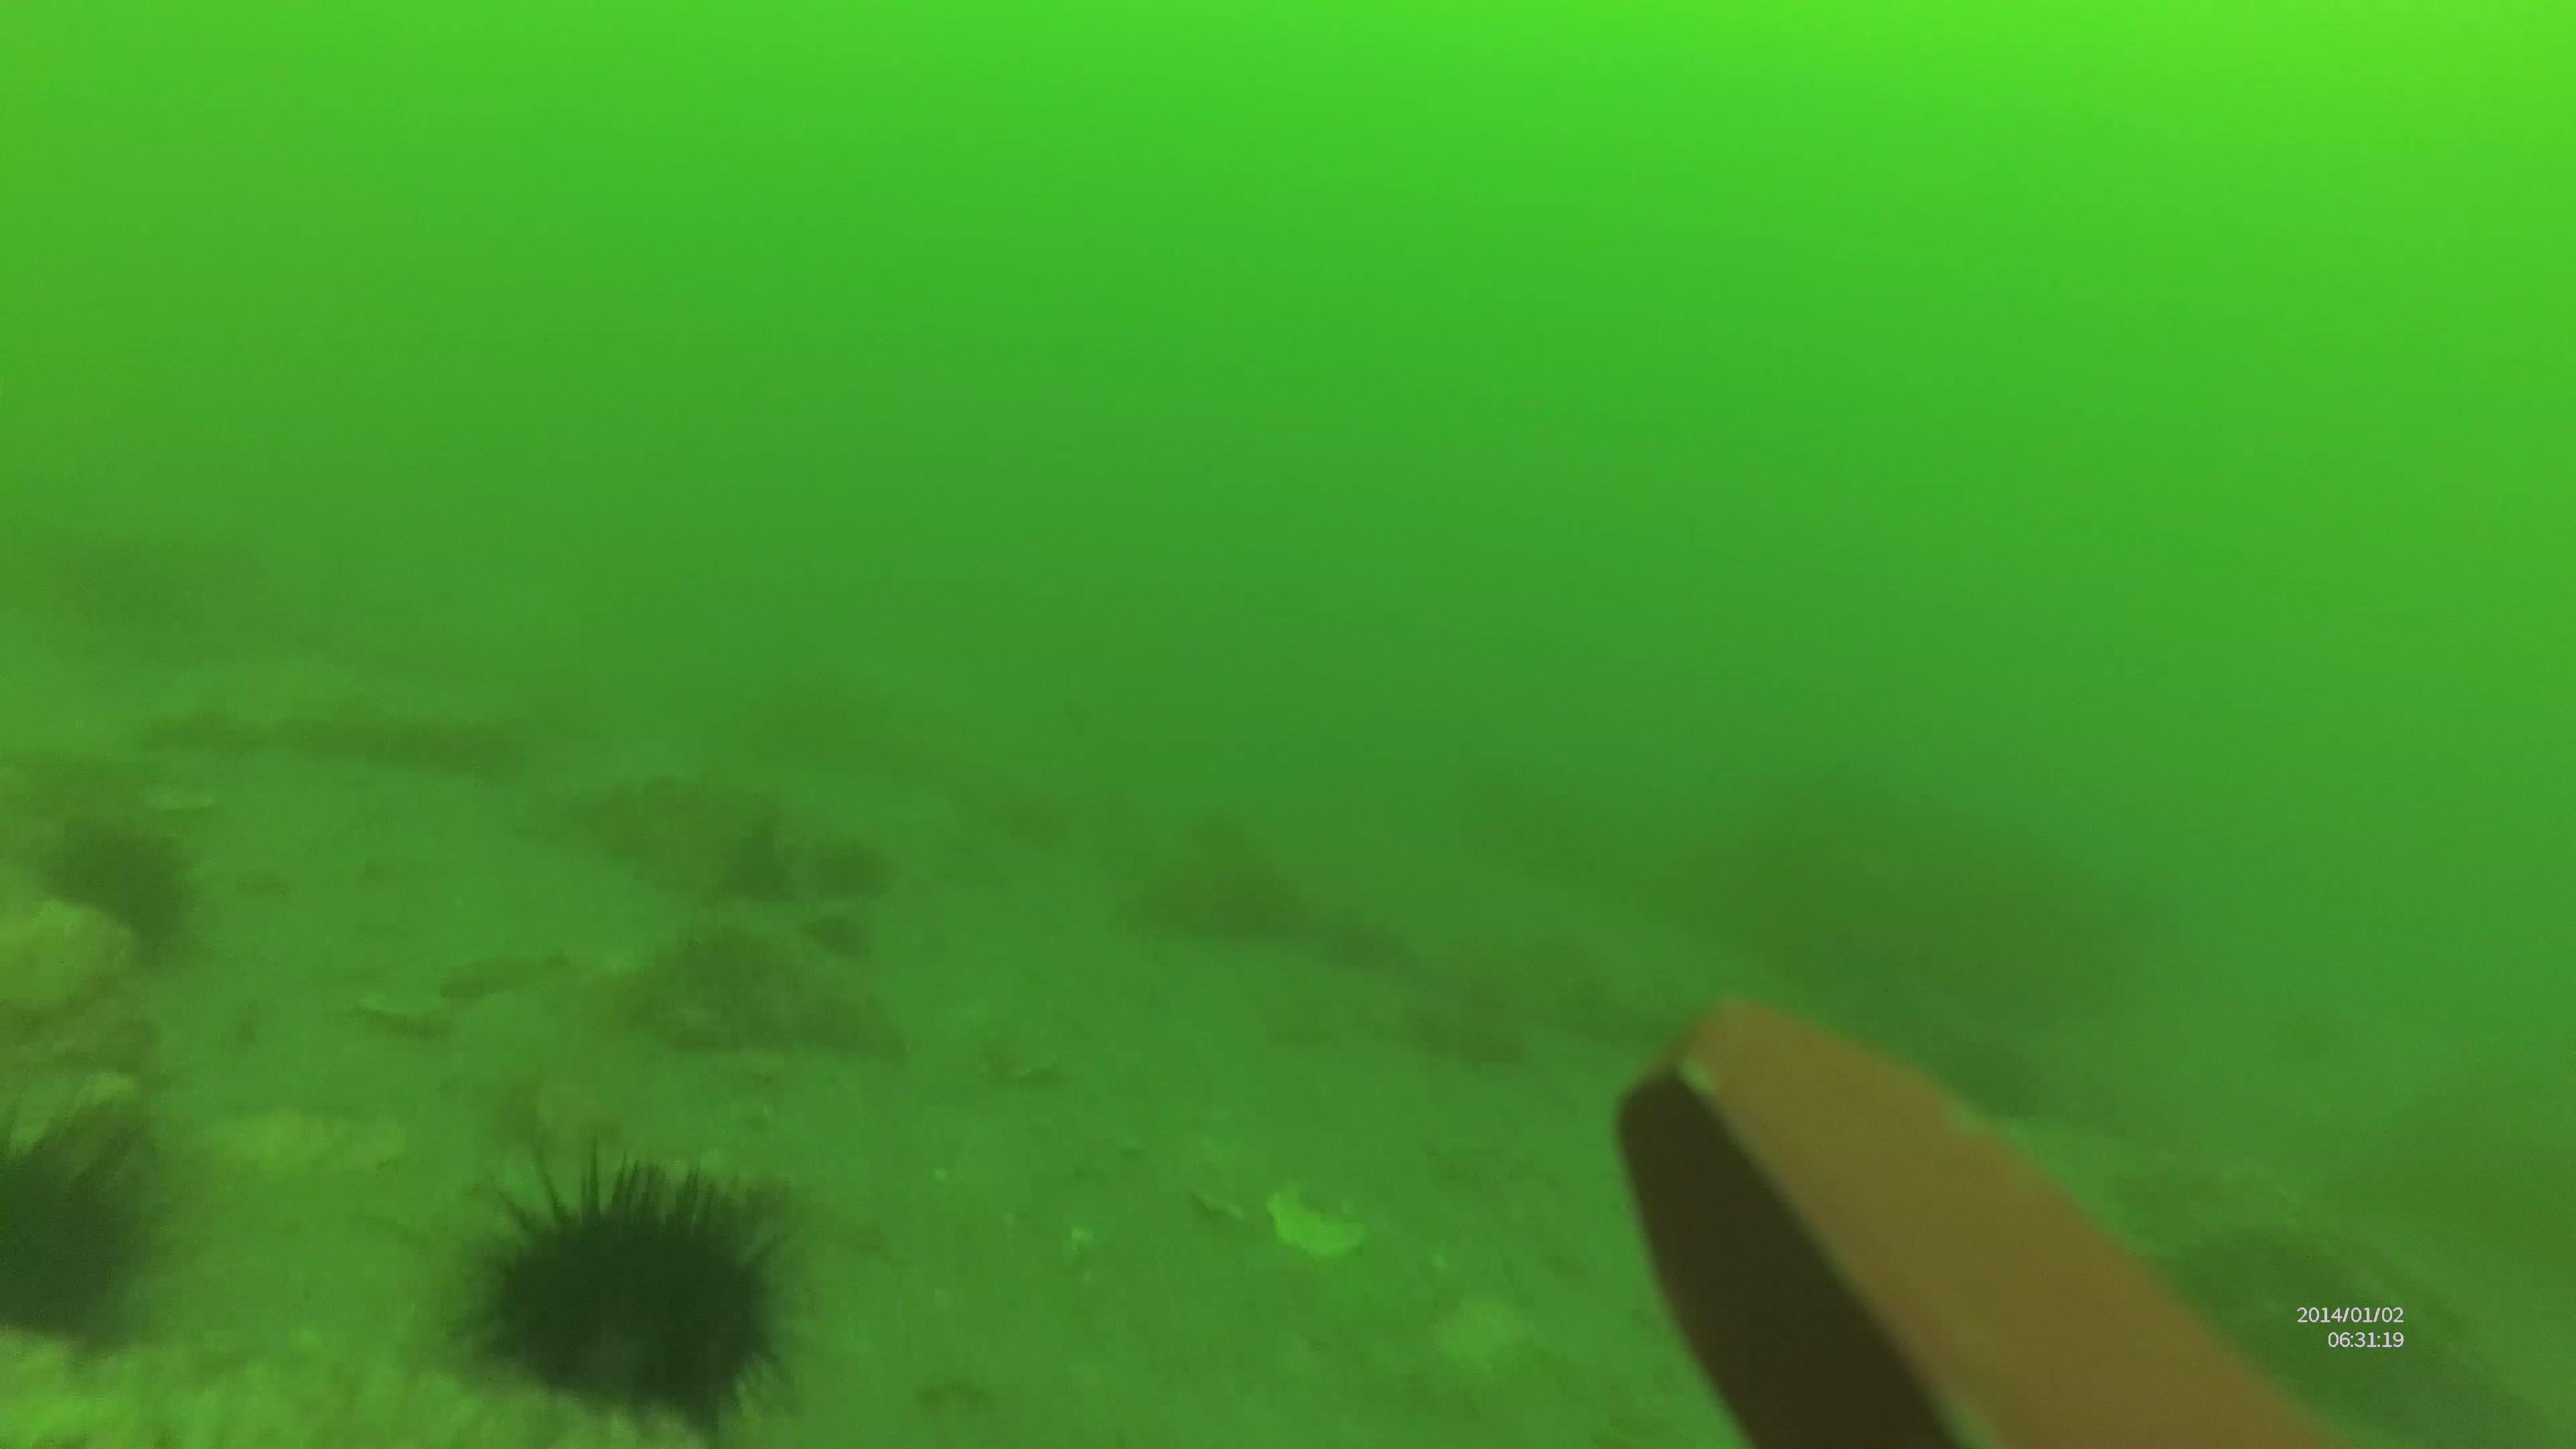echinus: (451, 1143, 796, 1449), (0, 1086, 165, 1348), (30, 805, 202, 961)
